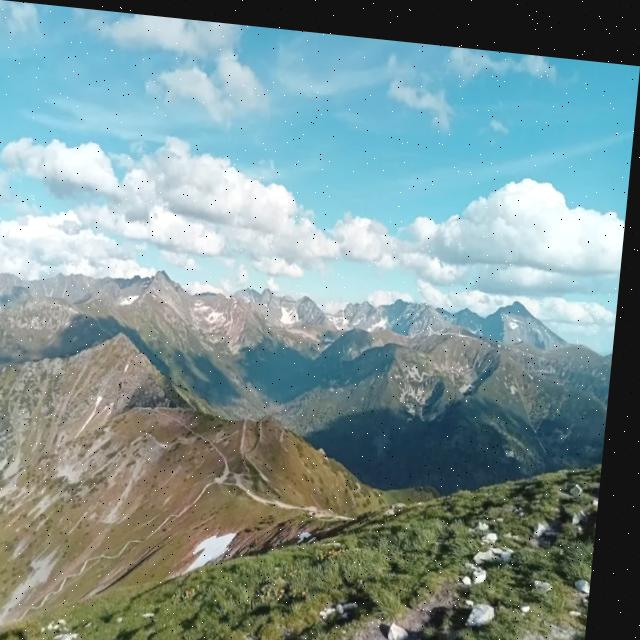Kasprowy Wierch: (122, 274, 178, 319)
Kozi Wierch: (118, 256, 154, 296)
Krivan: (477, 258, 562, 352)
Skrajny i Posredni Granat: (43, 242, 117, 309)
Swinica: (135, 242, 190, 299)
